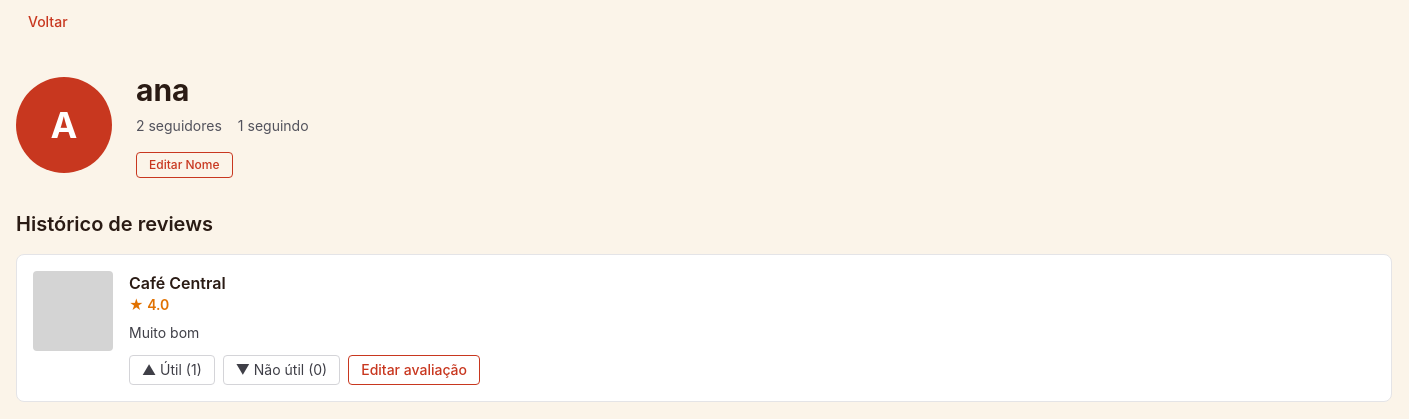
Test: perfil e histórico de avaliações › renomeia o perfil próprio e permite cancelar a edição
Click the button "Editar Nome" at [184, 165], box x1=136 y1=152 x2=232 y2=178
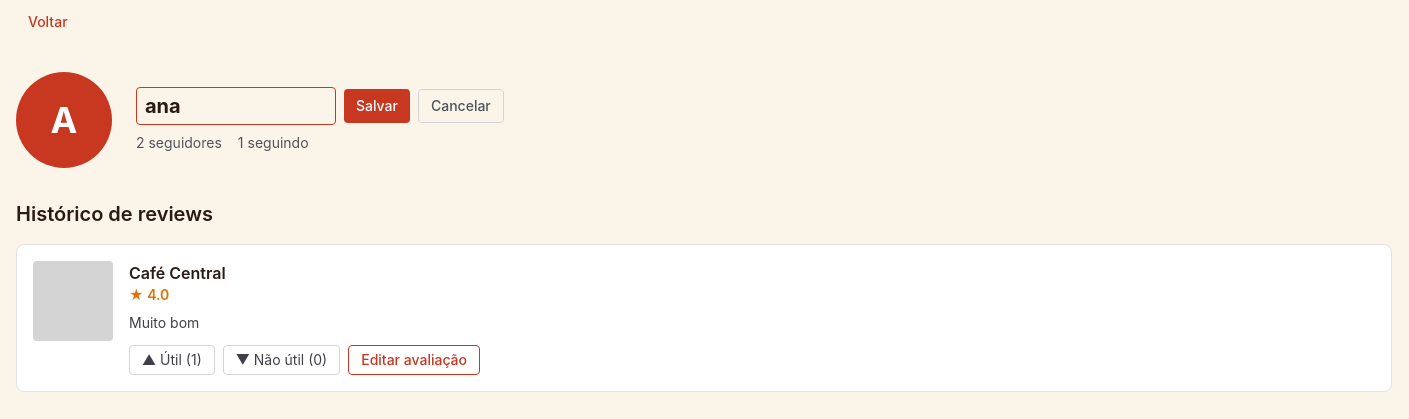
Replace the text in the field with "Ana Lima" at [236, 106], box x1=136 y1=87 x2=336 y2=125
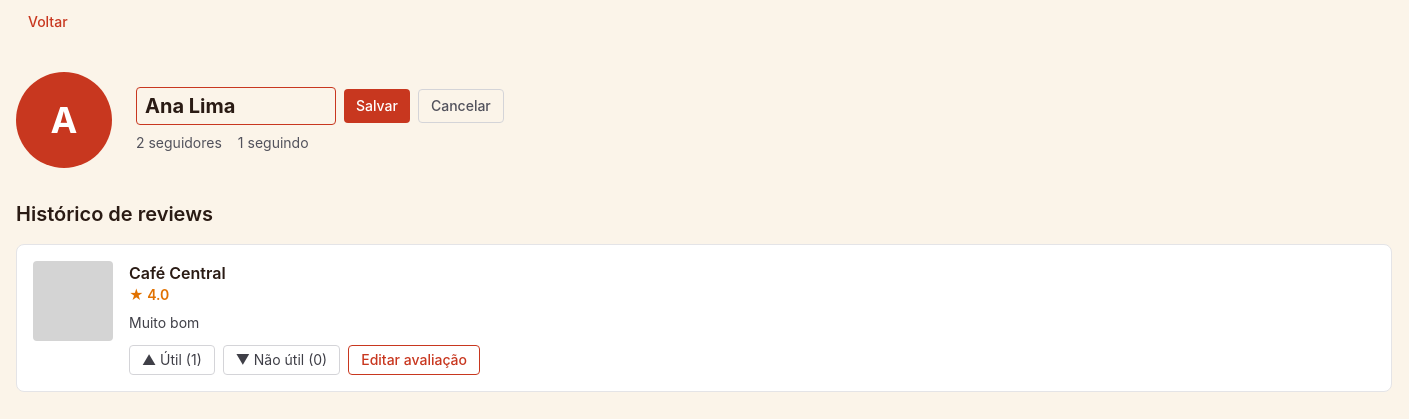
Click the button "Salvar" at [377, 106], box x1=344 y1=89 x2=410 y2=123
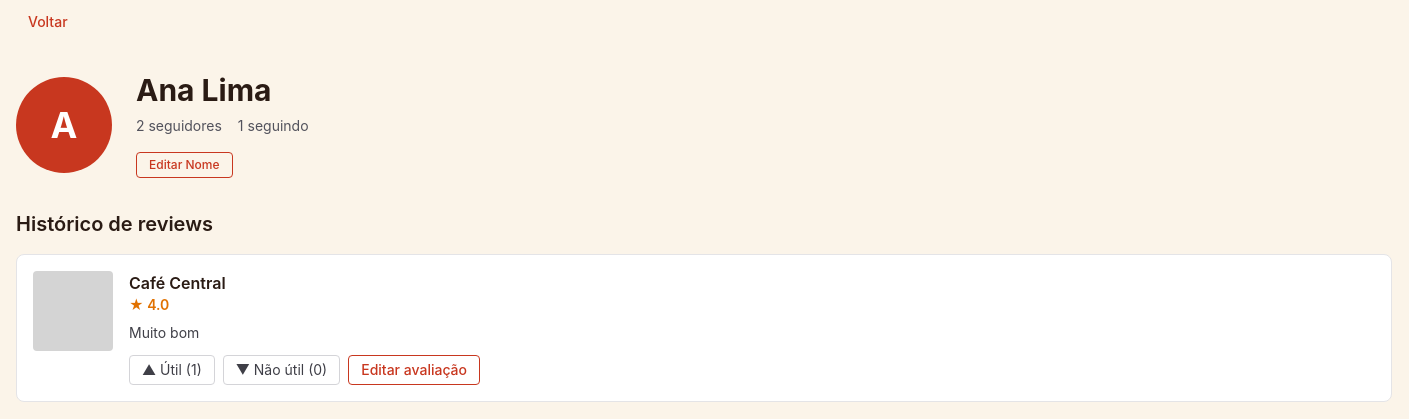
Expected: the heading "Ana Lima" is shown, x1=136 y1=72 x2=272 y2=108
Click the button "Editar Nome" at [184, 165], box x1=136 y1=152 x2=232 y2=178
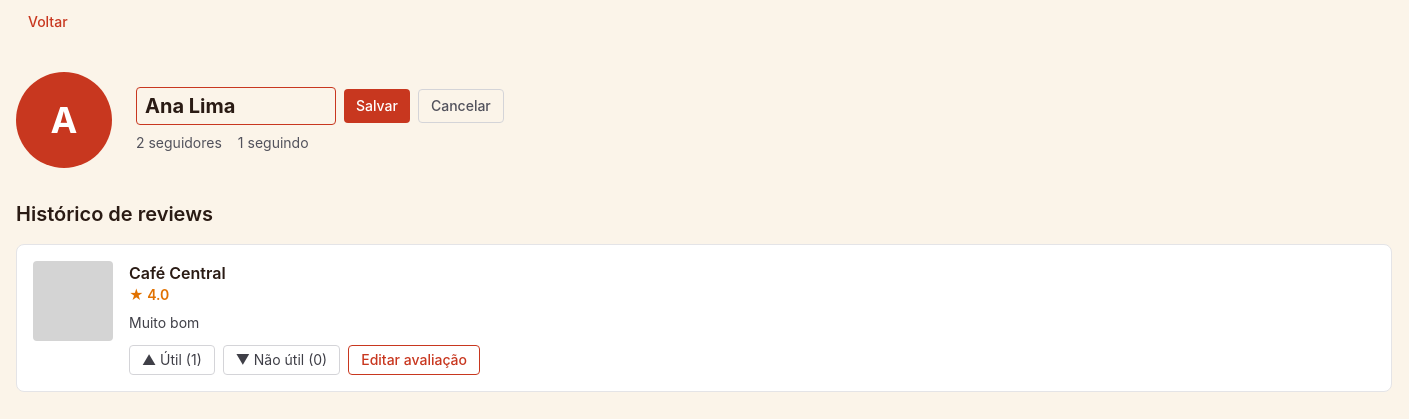
Click the button "Cancelar" at [461, 106], box x1=418 y1=89 x2=504 y2=123
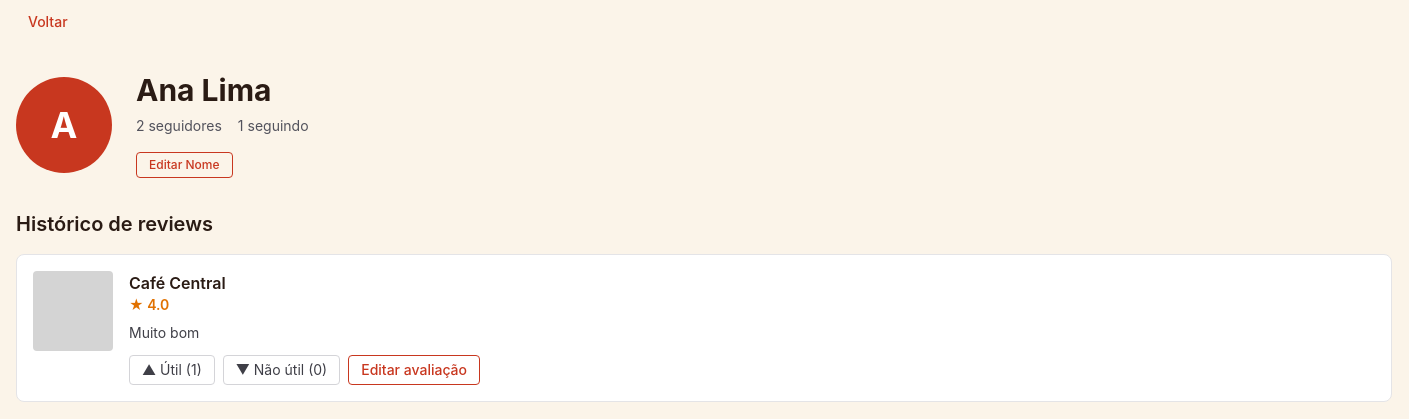
Expected: the heading "Ana Lima" is shown, x1=136 y1=72 x2=272 y2=108
